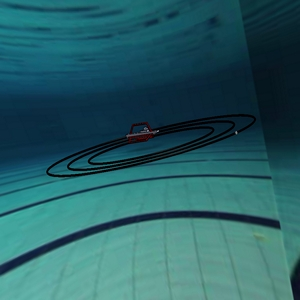circle: (41, 101, 268, 195)
submarine: (122, 118, 169, 149)
